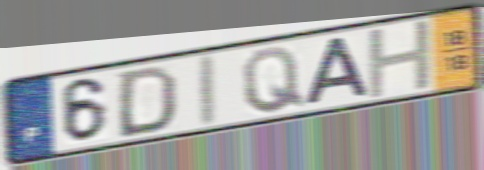6: (59, 77, 111, 146)
A: (302, 34, 373, 109)
D: (114, 63, 181, 141)
H: (365, 16, 436, 103)
I: (196, 50, 220, 132)
Q: (239, 45, 308, 116)
